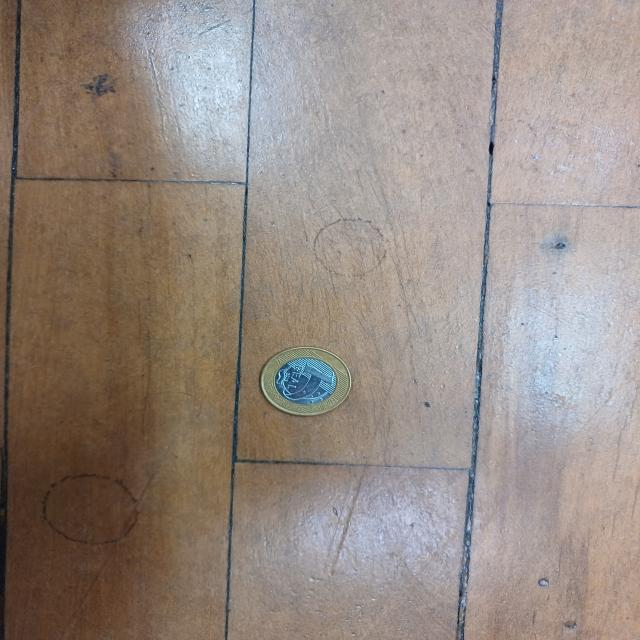1 real: (257, 342, 355, 420)
